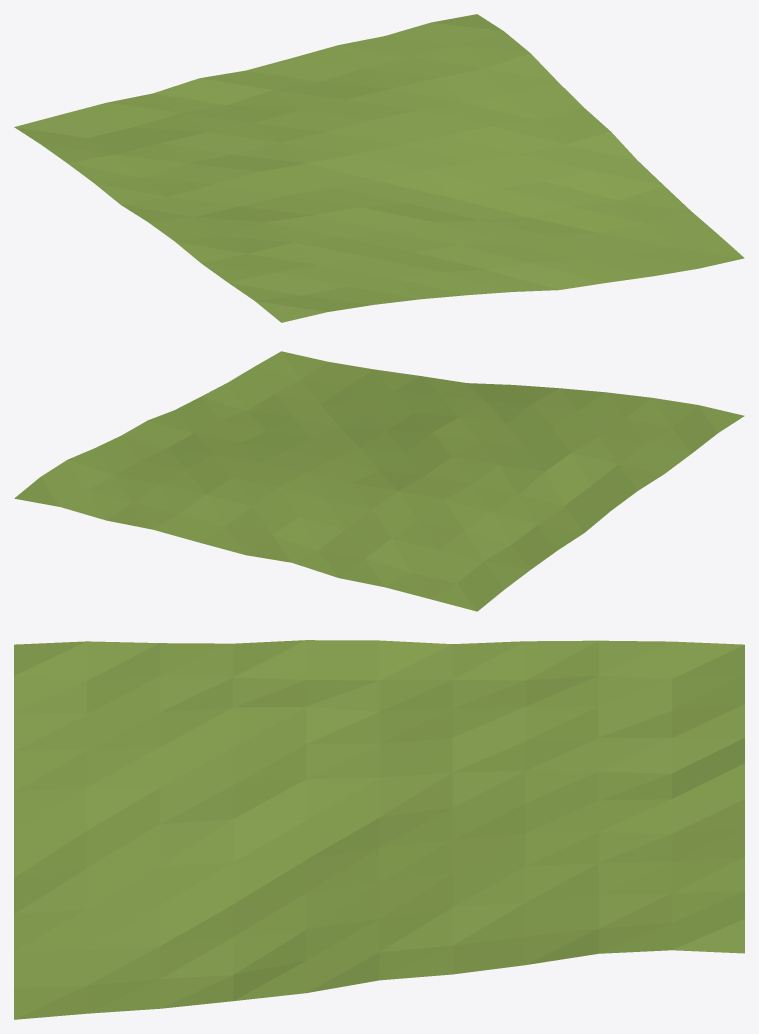
Rendered from terrain-plane_03-4.fbx.
3 renders of one model, top to bottom at view 1: azimuth 30°, elevation 25°; view 2: azimuth 150°, elevation 25°; view 3: azimuth 270°, elevation 25°, orthographic. The views are drawn at different scales.
Parts seen in each view (by area): view 1: terrain-plane_03-4; view 2: terrain-plane_03-4; view 3: terrain-plane_03-4.
Part boxes in pixels (x1,y1,x2,y2): terrain-plane_03-4: (14, 14, 744, 322); terrain-plane_03-4: (14, 351, 744, 611); terrain-plane_03-4: (14, 640, 744, 1019).
Bounding box in the file's own units: 20.01 × 2.15 × 20.
